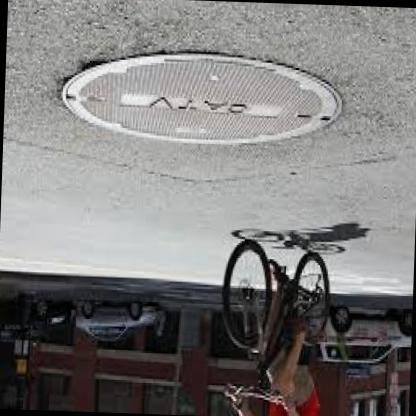manholes: (38, 20, 352, 170)
